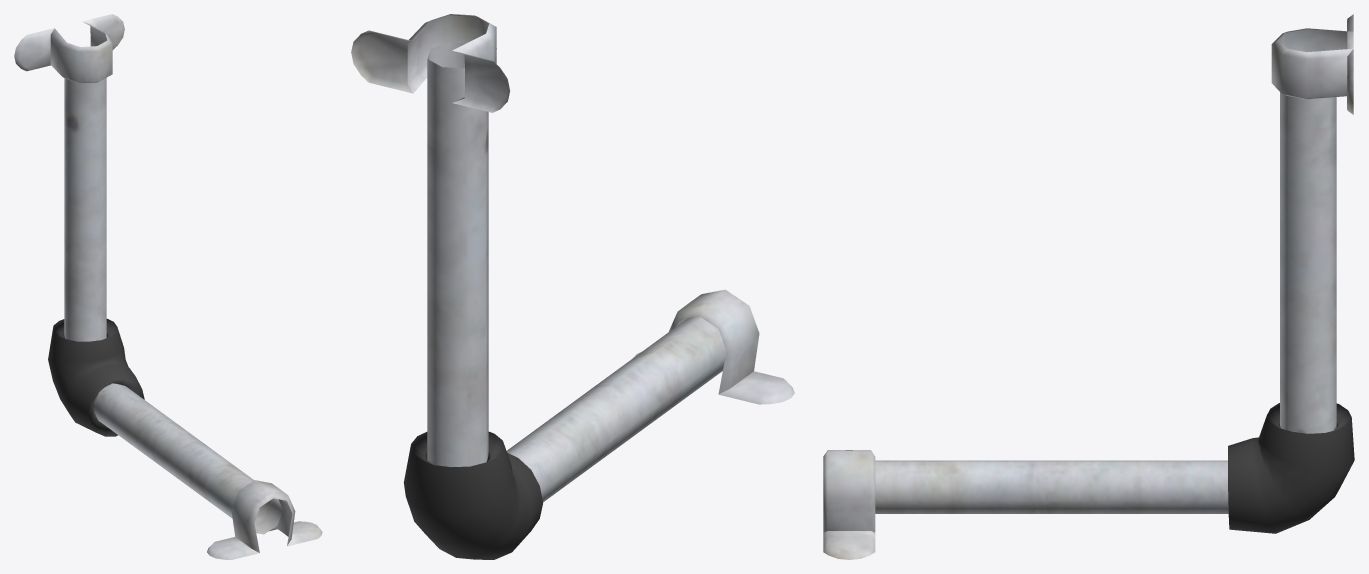
The model's file is SM_Pipe_Corner_01a.glb.
3 renders of one model, left to right at view 1: azimuth 30°, elevation 25°; view 2: azimuth 150°, elevation 25°; view 3: azimuth 270°, elevation 25°, orthographic. The views are drawn at different scales.
Visible parts, largest first — view 1: SM_Pipe_Corner_01a; view 2: SM_Pipe_Corner_01a; view 3: SM_Pipe_Corner_01a.
Part boxes in pixels (x1,y1,x2,y2): SM_Pipe_Corner_01a: [14, 14, 322, 559]; SM_Pipe_Corner_01a: [351, 14, 794, 559]; SM_Pipe_Corner_01a: [823, 14, 1354, 559].
Bounding box in the file's own units: 0.0815 × 0.2666 × 0.2624.
1 material, 1 textured.
